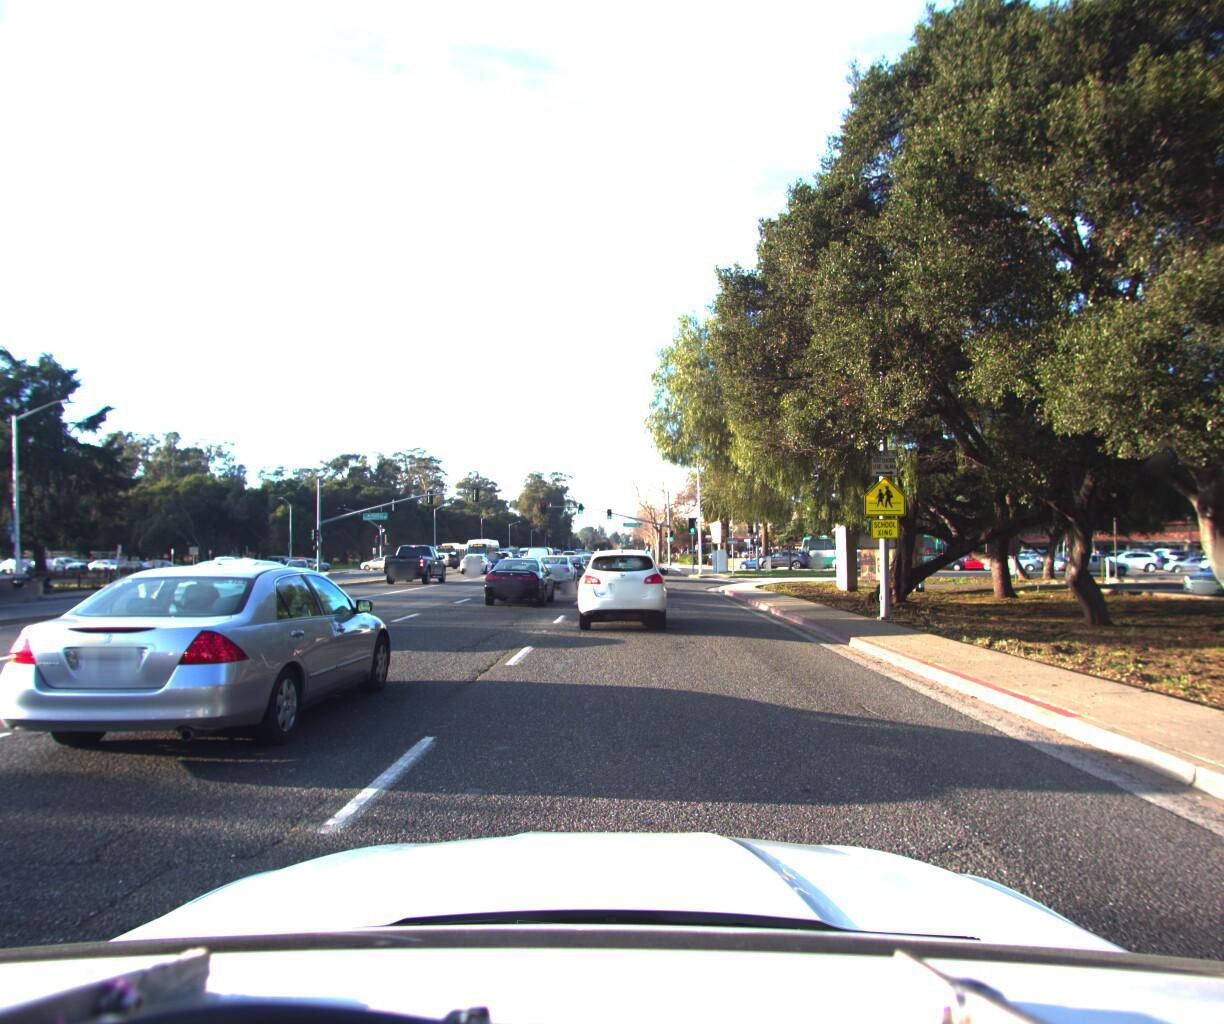bus: (791, 523, 946, 565)
car: (0, 553, 403, 784), (151, 536, 333, 645), (575, 538, 673, 631), (483, 547, 559, 604), (379, 532, 450, 580), (1039, 540, 1129, 569), (533, 545, 582, 585), (1088, 542, 1155, 564), (1154, 547, 1223, 567), (455, 539, 498, 569), (976, 544, 1037, 564), (522, 540, 555, 567), (281, 556, 316, 581), (482, 540, 515, 564), (731, 547, 776, 563)
truck: (0, 532, 30, 628)
